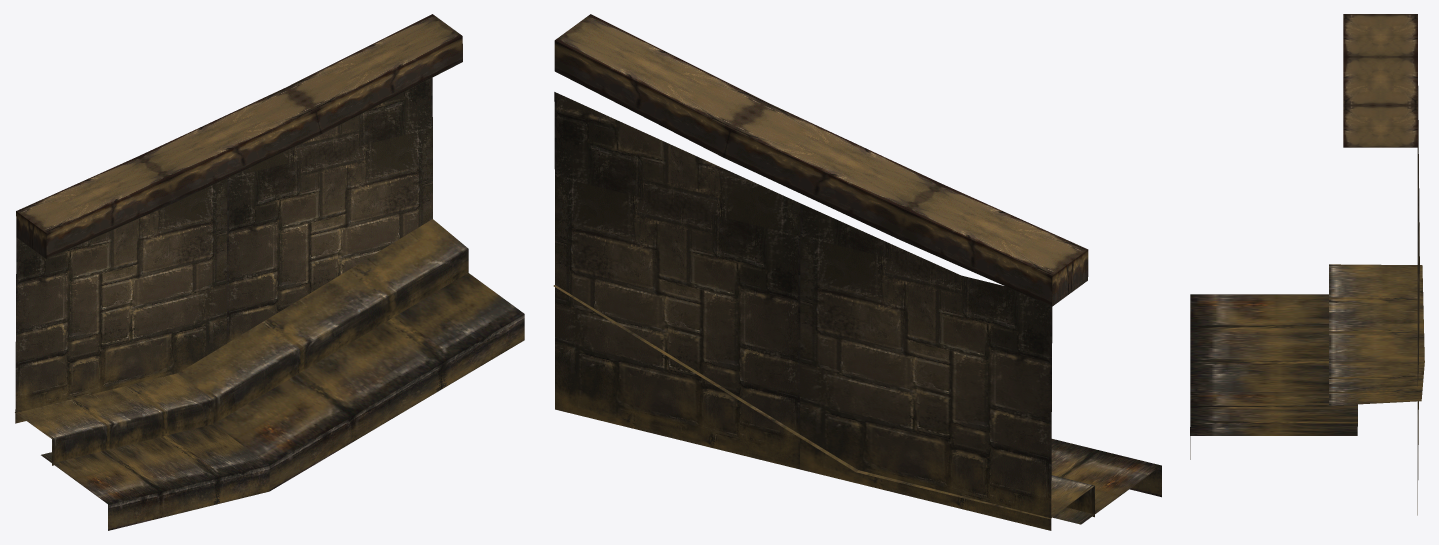
The model's file is 10401_building05.FBX.
3 views of the same model, side by side, from view 1: azimuth 30°, elevation 25°; view 2: azimuth 150°, elevation 25°; view 3: azimuth 270°, elevation 25° (orthographic). The views are drawn at different scales.
Visible parts, largest first — view 1: 10401_building05; view 2: 10401_building05; view 3: 10401_building05.
Boxes of the visible parts, x1,y1,x2,y2 form: 10401_building05: (15,14,524,530); 10401_building05: (553,14,1161,530); 10401_building05: (1190,14,1424,515).
Bounding box in the file's own units: 682 × 545 × 268.
